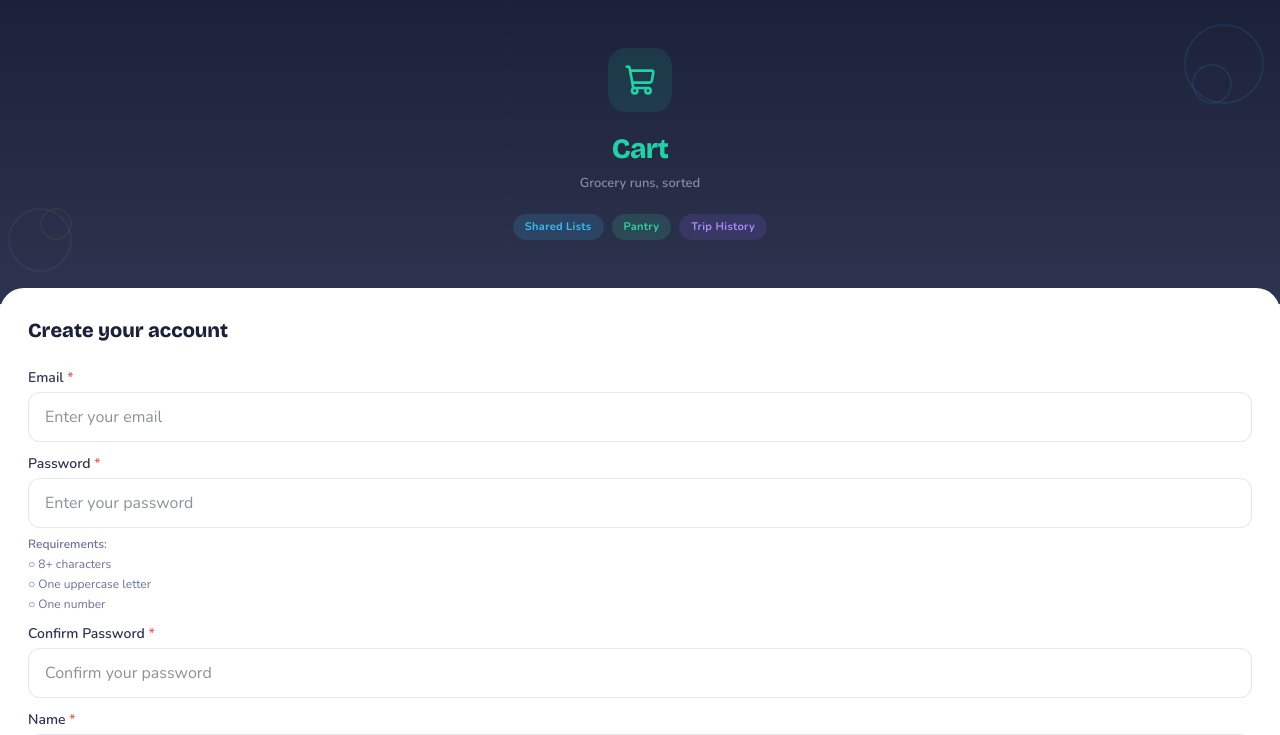
Scenario: RegisterPage › validates password has number
Type "NoNumbers" into the password field labelled "Password" at (640, 503), box top-left (28, 478), bottom-right (1252, 528)
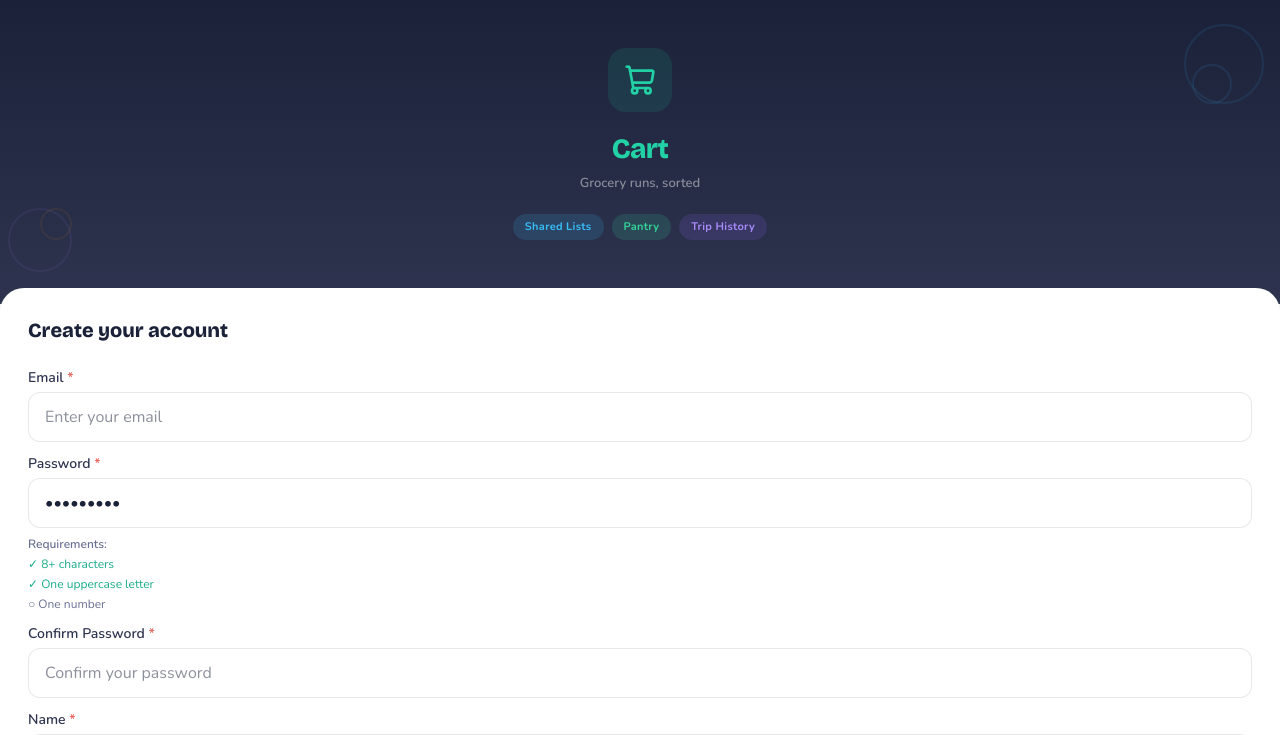
Leave the password field labelled "Password", box top-left (28, 478), bottom-right (1252, 528)
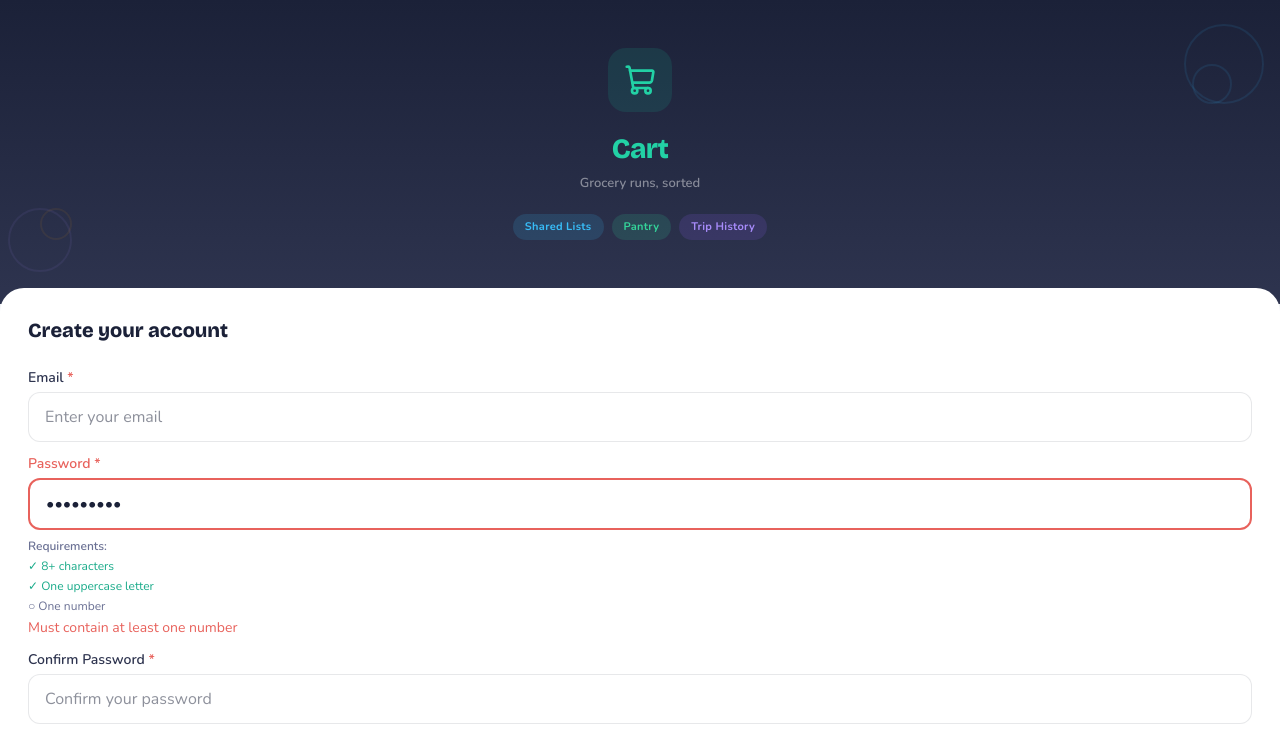
Check: the text "Must contain at least one number" is shown, box top-left (28, 618), bottom-right (238, 637)
